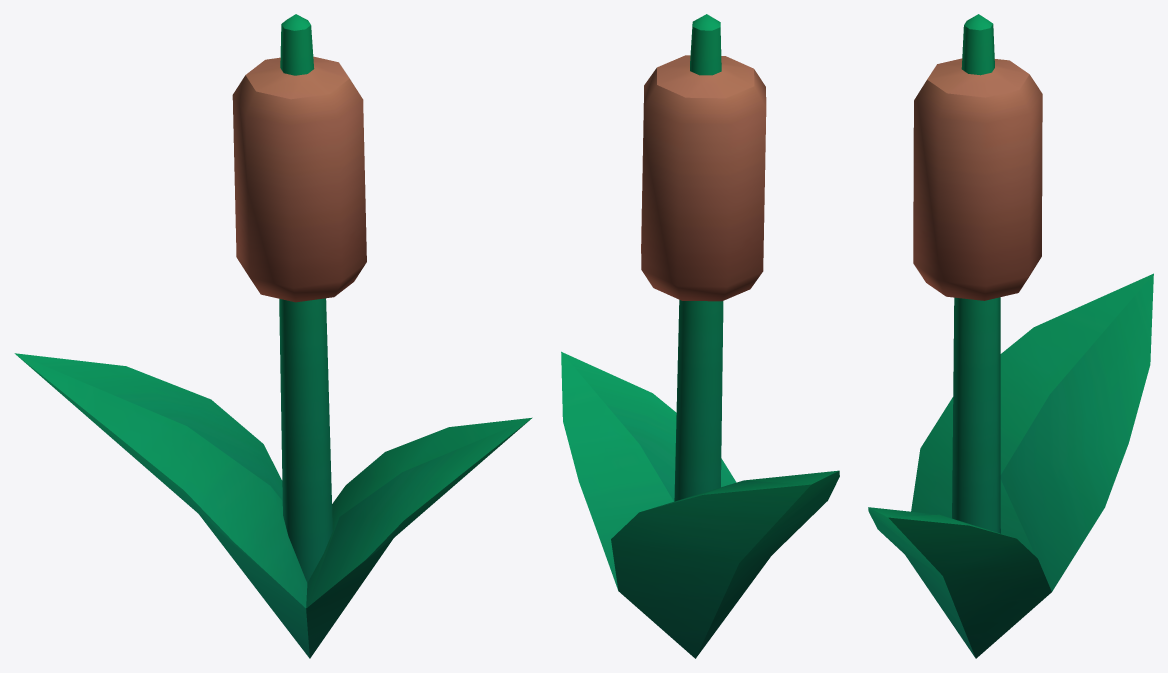
The model's file is waterplant_b.glb.
The picture shows the model from 3 angles, left to right: view 1: azimuth 30°, elevation 25°; view 2: azimuth 150°, elevation 25°; view 3: azimuth 270°, elevation 25°; orthographic projection.
Visible parts, largest first — view 1: waterplant_B; view 2: waterplant_B; view 3: waterplant_B.
Part boxes in pixels (x1,y1,x2,y2): waterplant_B: (14,14,532,658); waterplant_B: (561,14,839,658); waterplant_B: (868,14,1153,658).
Bounding box in the file's own units: 0.158 × 0.2542 × 0.1031.
1 material, 1 textured.
